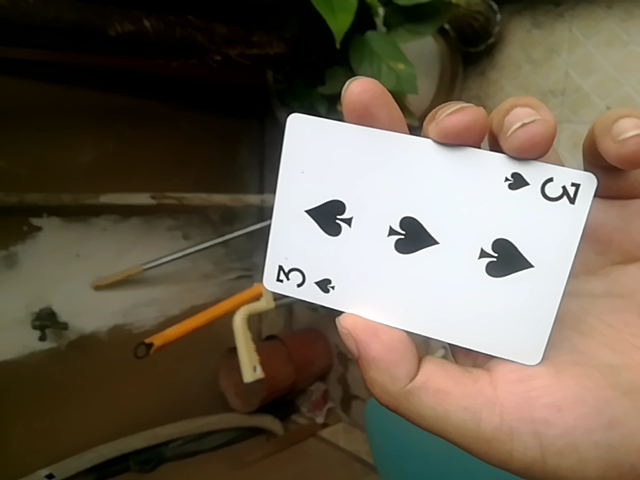ht 3: (253, 111, 596, 366)
